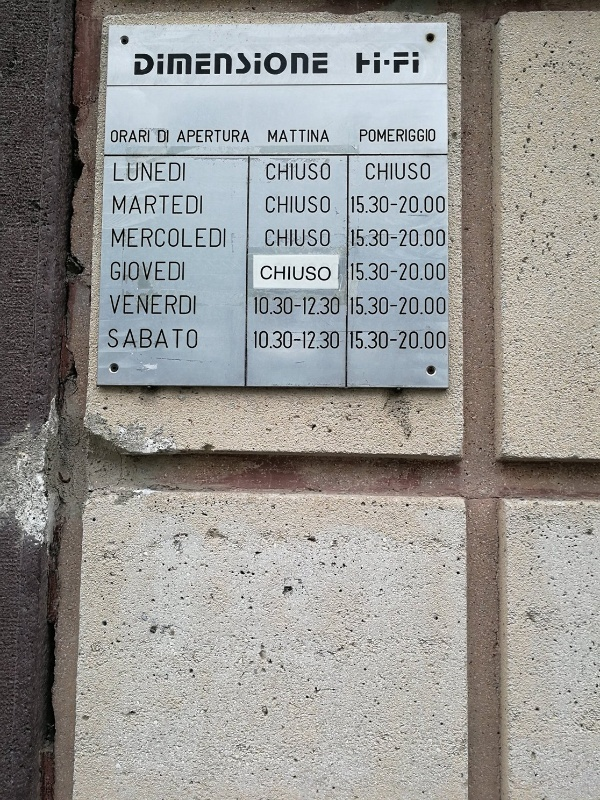text: (145, 53, 160, 78), (161, 53, 176, 78), (177, 53, 192, 78), (193, 53, 208, 78), (209, 53, 224, 78), (225, 53, 240, 78), (241, 53, 256, 78), (257, 53, 272, 78), (273, 53, 288, 78), (289, 53, 304, 78), (305, 53, 320, 78), (369, 52, 384, 74), (385, 52, 400, 74), (401, 52, 416, 74), (113, 328, 128, 350), (129, 328, 144, 350), (145, 328, 160, 350), (161, 328, 176, 350), (177, 328, 192, 350), (129, 162, 144, 182), (145, 162, 160, 182), (161, 162, 176, 182), (113, 228, 128, 248), (129, 228, 144, 248), (145, 228, 160, 248), (161, 228, 176, 248), (177, 228, 192, 248), (193, 228, 208, 248), (209, 228, 224, 248), (113, 195, 128, 215), (129, 195, 144, 215), (145, 195, 160, 215), (161, 195, 176, 215), (177, 195, 192, 215), (113, 261, 128, 281), (129, 261, 144, 281), (145, 261, 160, 281), (161, 261, 176, 281), (369, 162, 384, 181), (385, 162, 400, 181), (401, 162, 416, 181), (353, 263, 368, 282), (369, 263, 384, 282), (385, 263, 400, 282), (401, 263, 416, 282), (417, 263, 432, 282), (353, 297, 368, 316), (369, 297, 384, 316), (385, 297, 400, 316), (401, 297, 416, 316), (417, 297, 432, 316), (353, 331, 368, 350), (369, 331, 384, 350), (385, 331, 400, 350), (401, 331, 416, 350), (417, 331, 432, 350), (257, 331, 272, 350), (273, 331, 288, 350), (289, 331, 304, 350), (305, 331, 320, 350), (321, 331, 336, 350), (113, 295, 128, 314), (129, 295, 144, 314), (145, 295, 160, 314), (161, 295, 176, 314), (177, 295, 192, 314), (114, 162, 128, 182), (353, 196, 368, 214), (369, 196, 384, 214), (385, 196, 400, 214), (401, 196, 416, 214), (417, 196, 432, 214), (353, 229, 368, 247), (369, 229, 384, 247), (385, 229, 400, 247), (401, 229, 416, 247), (417, 229, 432, 247), (257, 297, 272, 315), (273, 297, 288, 315), (289, 297, 304, 315), (305, 297, 320, 315), (321, 297, 336, 315), (273, 229, 288, 247), (289, 229, 304, 247), (305, 229, 320, 247), (273, 196, 288, 214), (289, 196, 304, 214), (305, 196, 320, 214), (273, 163, 288, 181), (289, 163, 304, 181), (305, 163, 320, 181), (417, 162, 431, 181), (433, 263, 446, 282), (433, 297, 446, 316), (433, 331, 446, 350), (357, 52, 368, 74), (273, 266, 288, 282), (289, 266, 304, 282), (305, 266, 320, 282), (433, 229, 446, 247), (135, 53, 144, 78), (433, 196, 445, 214), (369, 129, 384, 143), (385, 129, 400, 143), (401, 129, 416, 143), (417, 129, 432, 143), (273, 130, 288, 144), (289, 130, 304, 144), (305, 130, 320, 144), (193, 130, 208, 144), (209, 130, 224, 144), (225, 130, 240, 144), (321, 53, 329, 78), (193, 195, 203, 215), (113, 131, 128, 144), (129, 131, 144, 144), (261, 266, 272, 282), (321, 229, 330, 247), (321, 196, 330, 214), (321, 163, 330, 181), (321, 266, 331, 282), (177, 162, 185, 182), (181, 130, 192, 144), (177, 261, 184, 281), (321, 130, 330, 144), (241, 130, 250, 144), (360, 129, 368, 143), (193, 328, 198, 350), (266, 229, 272, 247), (266, 196, 272, 214), (161, 131, 169, 144), (267, 163, 272, 181), (109, 328, 112, 350), (337, 331, 340, 350), (193, 295, 196, 314), (337, 297, 340, 315), (145, 131, 149, 144), (417, 52, 419, 74), (269, 130, 272, 144), (366, 162, 368, 181), (350, 331, 352, 350), (254, 331, 256, 350), (110, 295, 112, 314), (254, 297, 256, 315), (433, 129, 435, 143), (158, 131, 160, 144), (225, 228, 226, 248), (111, 261, 112, 281), (351, 263, 352, 282), (351, 297, 352, 316), (351, 196, 352, 214), (351, 229, 352, 247), (111, 131, 112, 144)
